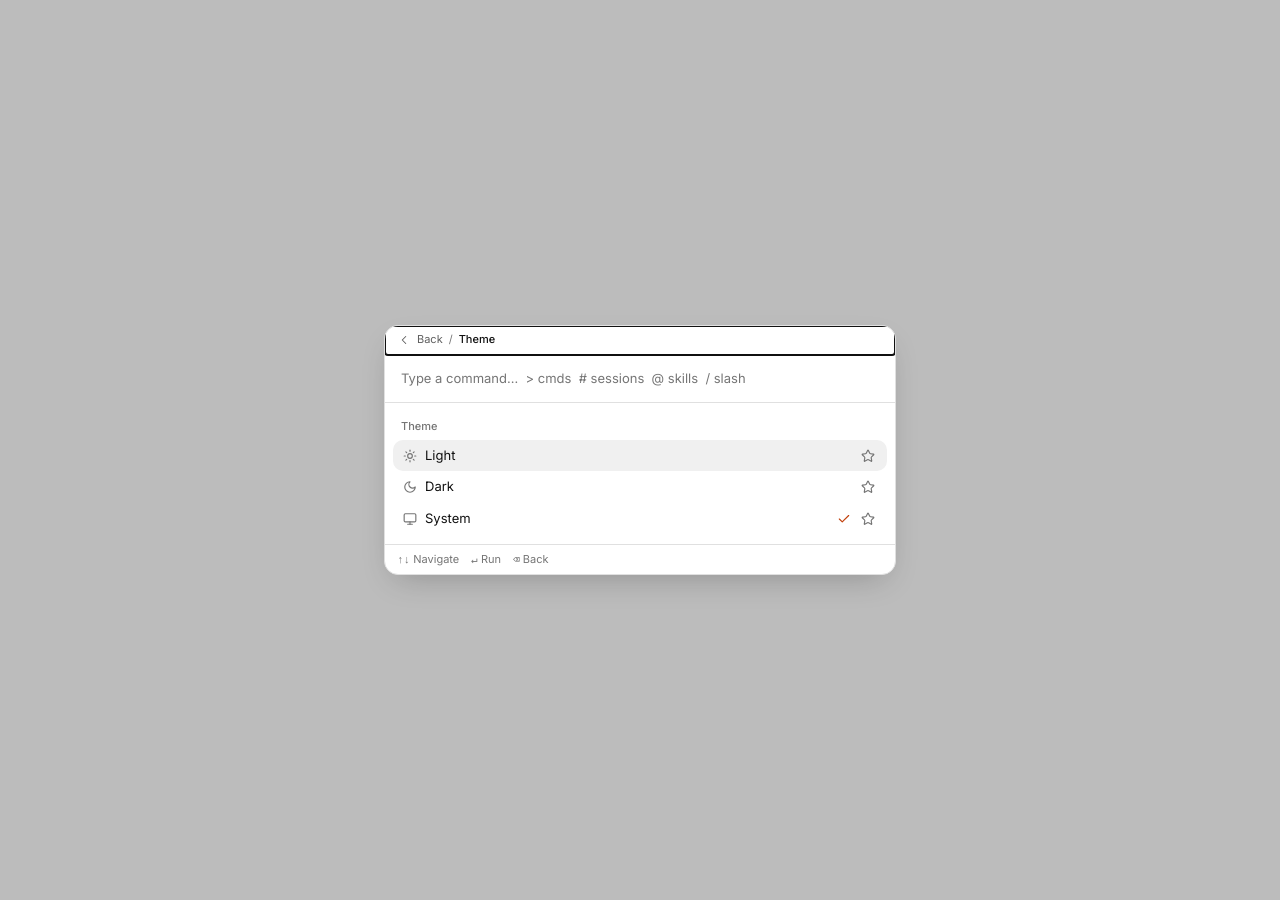
it: GlobalCommandPalette actions and sessions › back clears page
The width and height of the screenshot is (1280, 900).
Step 1. Click the button with test id "global-command-palette-back" → (477, 339), box 385,326 -> 895,355
(page scrolled)
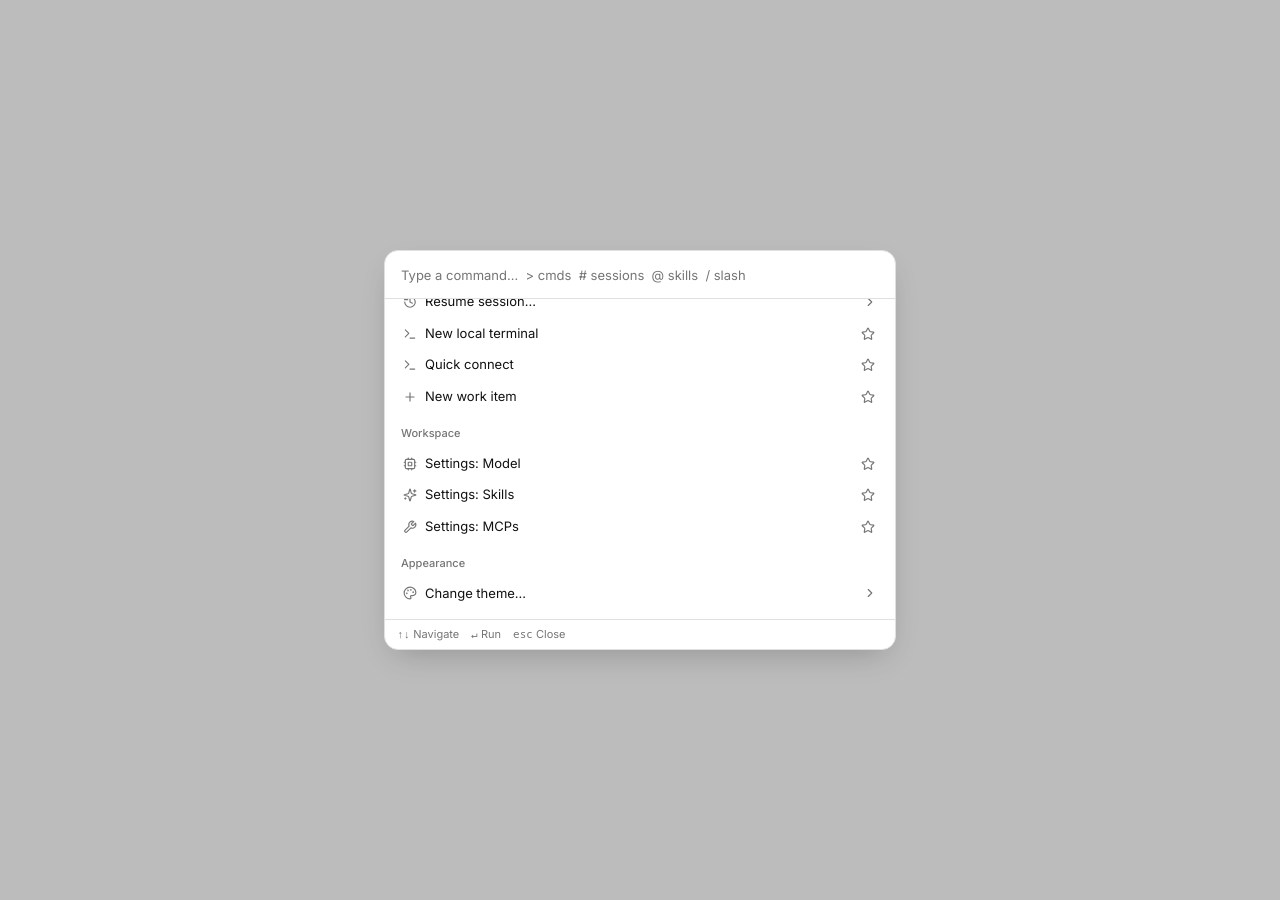
Expected: the option with test id "global-cmd-appearance-theme" is shown, 403,585 -> 877,601
